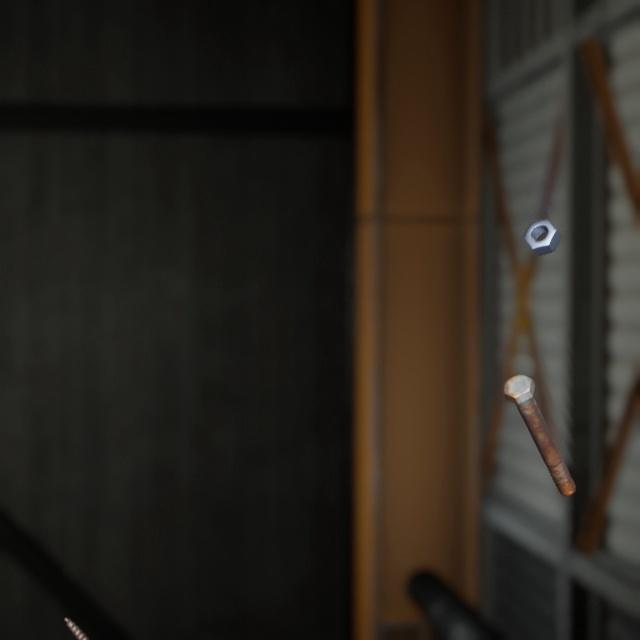bolt: (499, 349, 580, 481), (59, 589, 116, 640)
nut: (518, 198, 565, 244)
